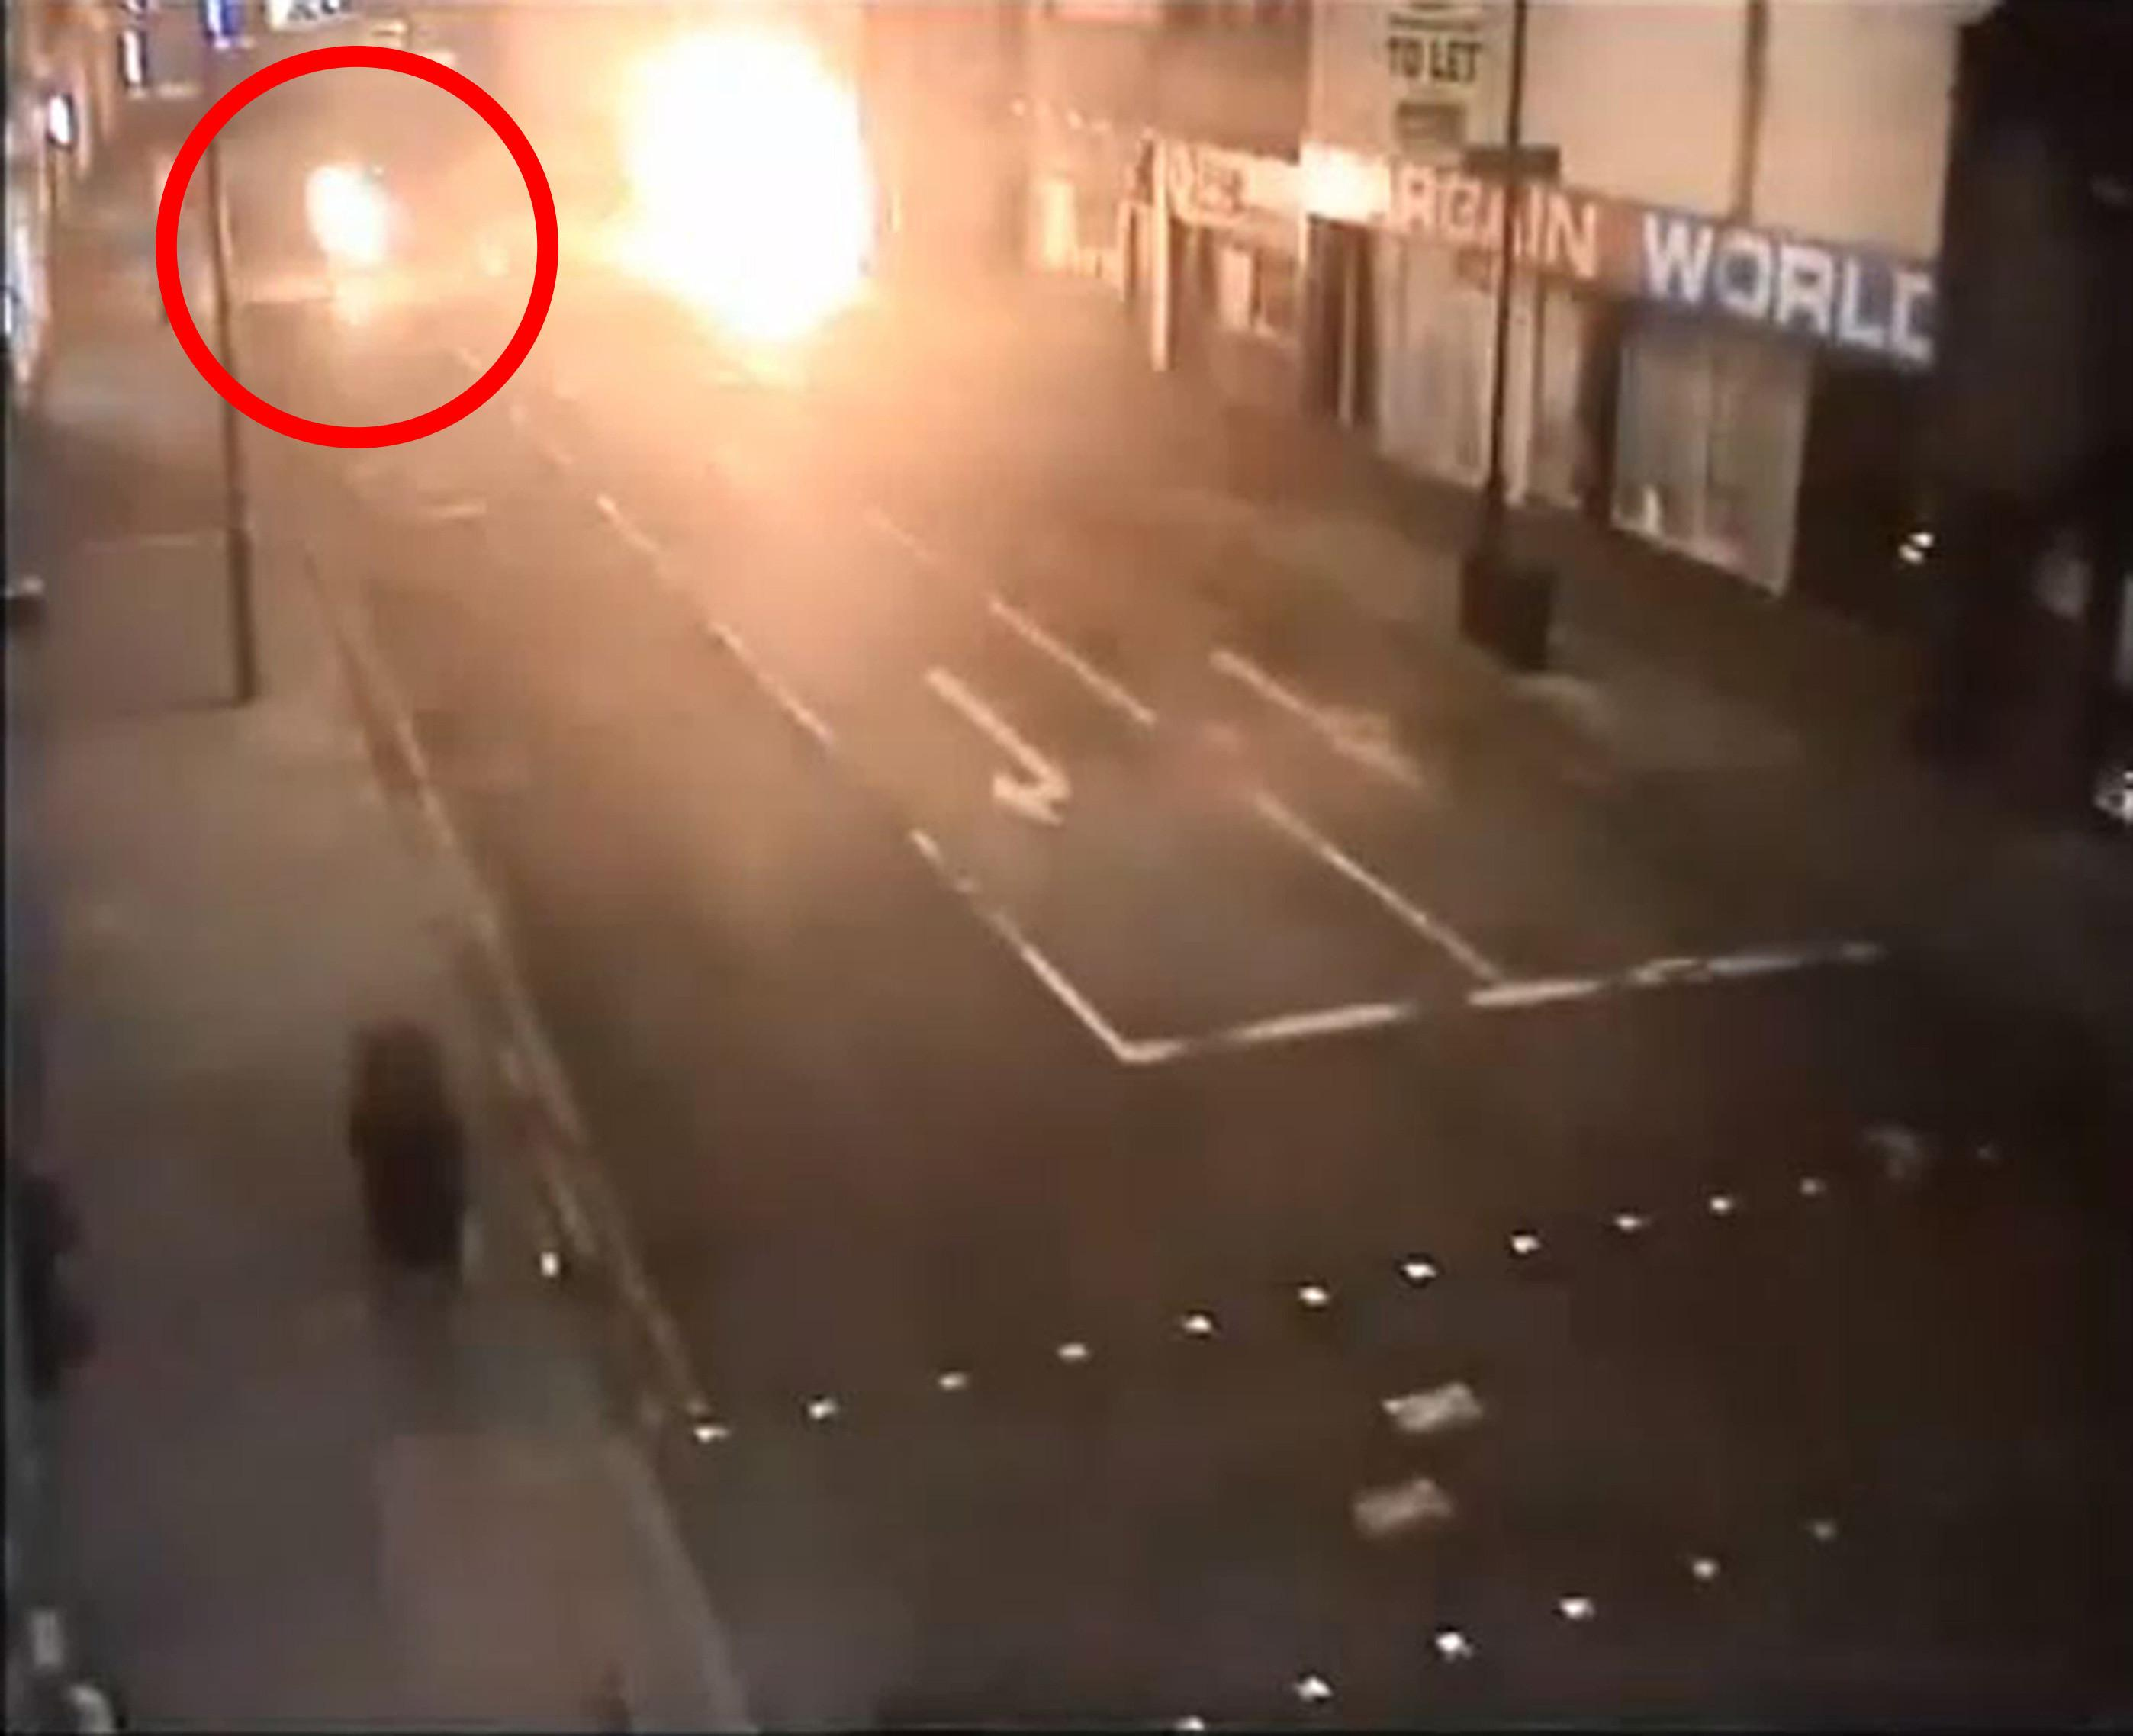Fire: (585, 2, 918, 376), (273, 142, 468, 303)
